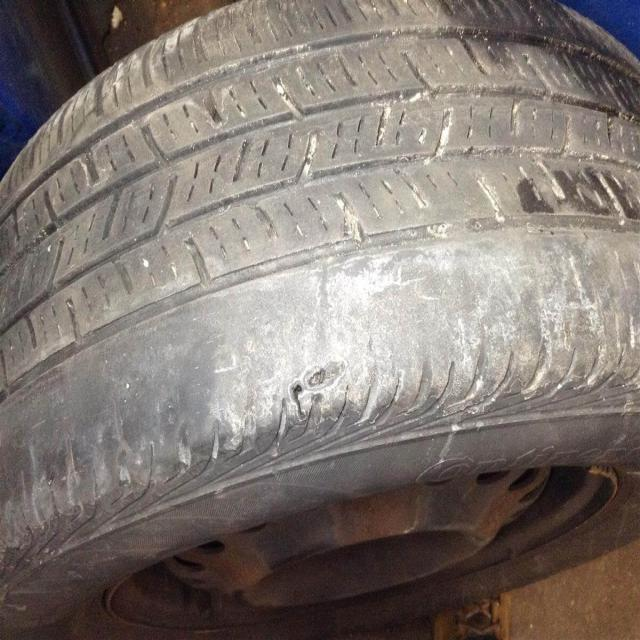Flat spots: (223, 243, 640, 445)
